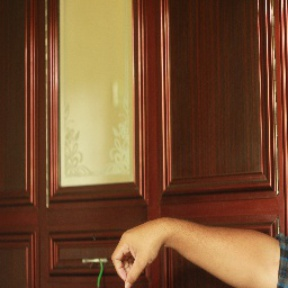O: (111, 219, 166, 281)
